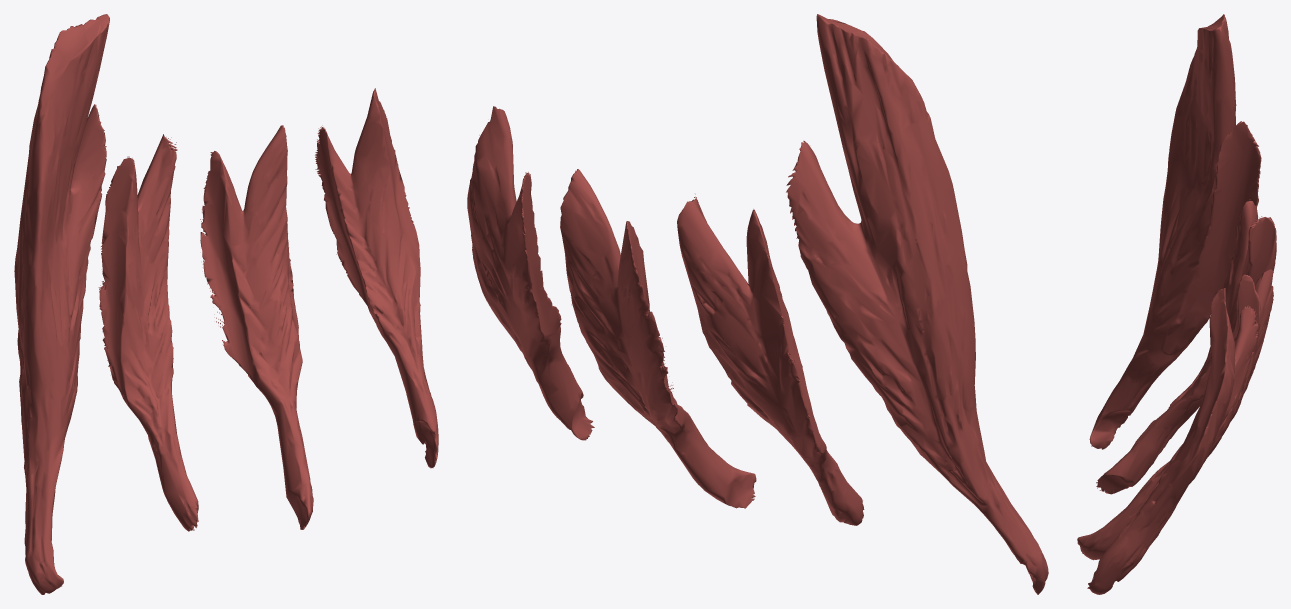
The model's file is FMA42404.glb.
3 renders of one model, left to right at view 1: azimuth 30°, elevation 25°; view 2: azimuth 150°, elevation 25°; view 3: azimuth 270°, elevation 25°, orthographic. The views are drawn at different scales.
Visible parts, largest first — view 1: FMA42404; view 2: FMA42404; view 3: FMA42404.
Boxes of the visible parts, box(x1,y1,x2,y2) form: FMA42404: box(14, 14, 438, 594); FMA42404: box(467, 14, 1048, 594); FMA42404: box(1077, 14, 1276, 594).
Size of the model in its own units: 0.0622 by 0.0689 by 0.0259.
